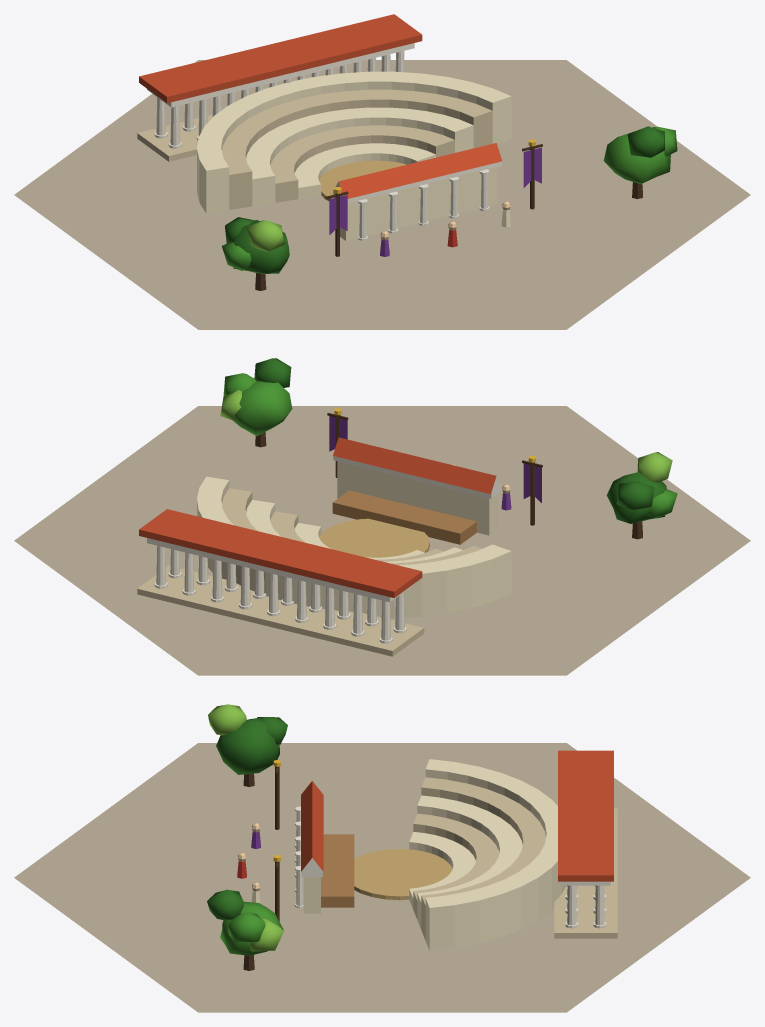
The model's file is district_theater_2.fbx.
3 renders of one model, top to bottom at view 1: azimuth 30°, elevation 25°; view 2: azimuth 150°, elevation 25°; view 3: azimuth 270°, elevation 25°, orthographic.
Visible parts, largest first — view 1: district_theater_2; view 2: district_theater_2; view 3: district_theater_2.
Part boxes in pixels (x1=…): district_theater_2: x1=14, y1=14, x2=750, y2=329; district_theater_2: x1=14, y1=358, x2=750, y2=675; district_theater_2: x1=14, y1=704, x2=750, y2=1012.
Bounding box in the file's own units: 182 × 25.08 × 210.
